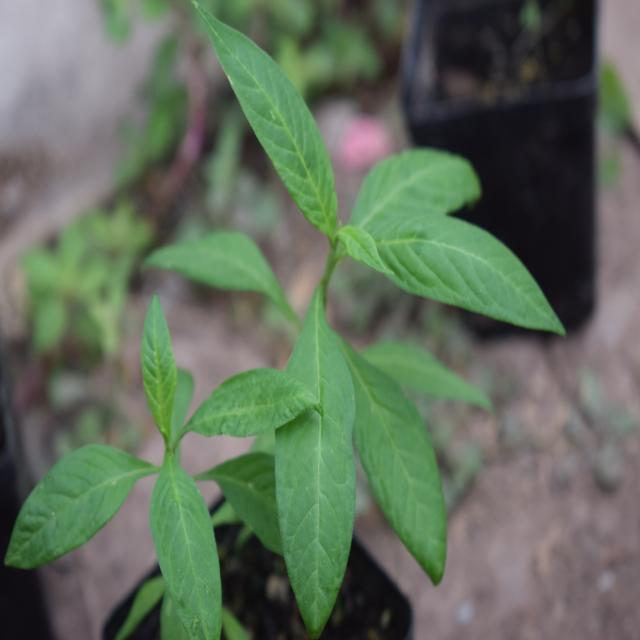white_smart_weed: (206, 32, 574, 581), (6, 311, 299, 622)
